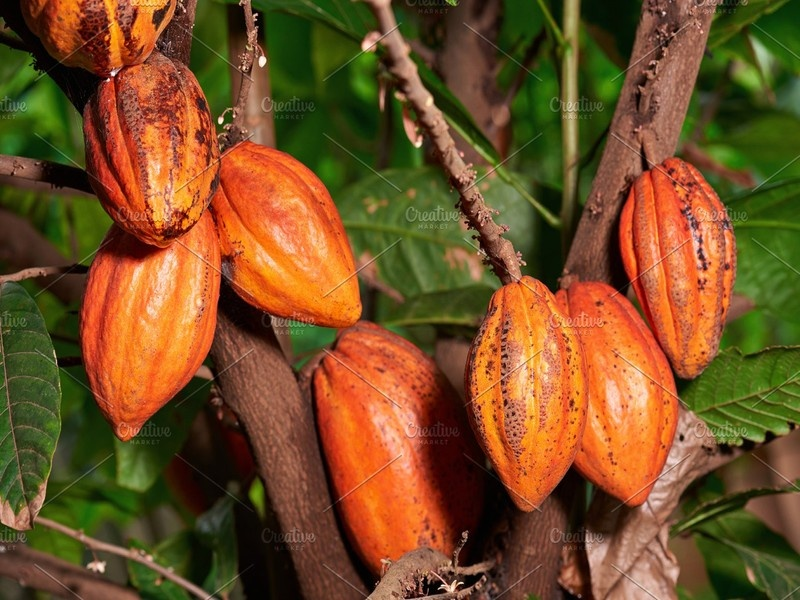Cacaopod: (311, 341, 511, 581), (58, 211, 235, 415), (205, 131, 368, 348), (608, 165, 755, 385), (555, 255, 668, 541), (78, 68, 238, 255), (475, 281, 578, 511), (28, 1, 205, 81)
